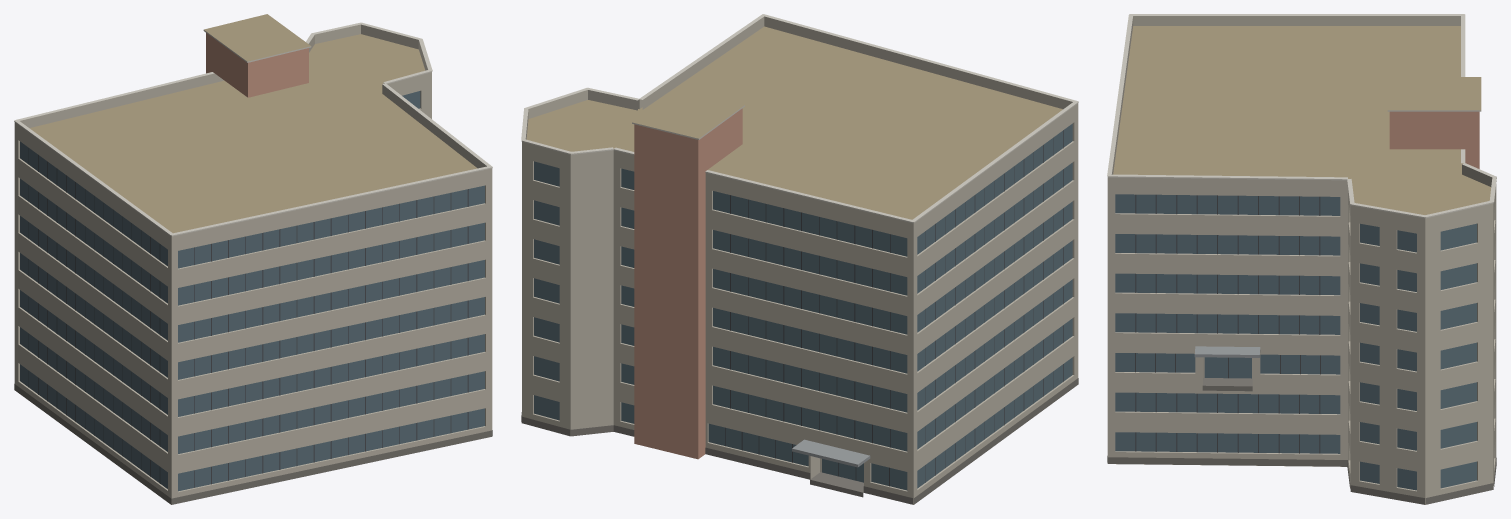
The picture shows the model from 3 angles, left to right: view 1: azimuth 30°, elevation 25°; view 2: azimuth 150°, elevation 25°; view 3: azimuth 270°, elevation 25°; orthographic projection. The views are drawn at different scales.
Visible parts, largest first — view 1: studentUnion__wall, studentUnion__glass, studentUnion__roof, studentUnion__parapet, studentUnion__frame, studentUnion__trim, studentUnion__wall2, studentUnion__base; view 2: studentUnion__wall, studentUnion__glass, studentUnion__roof, studentUnion__wall2, studentUnion__parapet, studentUnion__trim, studentUnion__base, studentUnion__frame, studentUnion__canopy; view 3: studentUnion__wall, studentUnion__roof, studentUnion__glass, studentUnion__parapet, studentUnion__trim, studentUnion__wall2, studentUnion__base, studentUnion__frame, studentUnion__canopy.
Part boxes in pixels (<box>): studentUnion__wall: <box>14,80,492,504</box>; studentUnion__glass: <box>20,91,484,491</box>; studentUnion__roof: <box>29,14,477,233</box>; studentUnion__parapet: <box>14,24,492,244</box>; studentUnion__frame: <box>28,148,468,487</box>; studentUnion__trim: <box>14,22,492,236</box>; studentUnion__wall2: <box>206,33,308,97</box>; studentUnion__base: <box>14,384,492,504</box>; studentUnion__wall: <box>522,112,1078,504</box>; studentUnion__glass: <box>534,123,1072,490</box>; studentUnion__roof: <box>526,26,1062,504</box>; studentUnion__wall2: <box>634,108,742,459</box>; studentUnion__parapet: <box>522,16,1078,231</box>; studentUnion__trim: <box>521,14,1078,223</box>; studentUnion__base: <box>521,378,1078,504</box>; studentUnion__frame: <box>725,130,1063,486</box>; studentUnion__canopy: <box>792,439,870,467</box>; studentUnion__wall: <box>1107,186,1496,504</box>; studentUnion__roof: <box>1113,26,1491,504</box>; studentUnion__glass: <box>1115,194,1476,490</box>; studentUnion__parapet: <box>1107,16,1496,226</box>; studentUnion__trim: <box>1107,14,1496,218</box>; studentUnion__wall2: <box>1389,111,1479,168</box>; studentUnion__base: <box>1107,378,1496,504</box>; studentUnion__frame: <box>1135,194,1320,453</box>; studentUnion__canopy: <box>1194,346,1260,357</box>.
Size of the model in its own units: 38.48 by 29.3 by 31.19.
